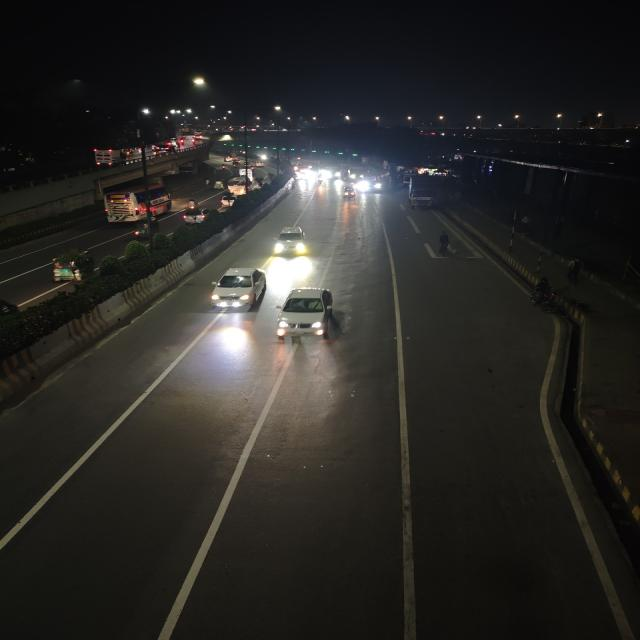bicycle: (436, 228, 452, 261)
bus: (108, 189, 165, 221), (362, 168, 391, 193), (321, 162, 343, 180), (227, 179, 249, 194), (347, 166, 370, 180)
car: (274, 286, 341, 346), (205, 264, 264, 314), (274, 224, 312, 258), (153, 144, 174, 156)
cng: (131, 219, 157, 239), (342, 184, 357, 202), (212, 179, 226, 191), (232, 160, 239, 168)
motorcycle: (179, 137, 185, 147), (190, 138, 197, 146), (221, 164, 226, 171)
truck: (406, 178, 438, 212), (90, 145, 132, 169), (240, 168, 254, 176)
